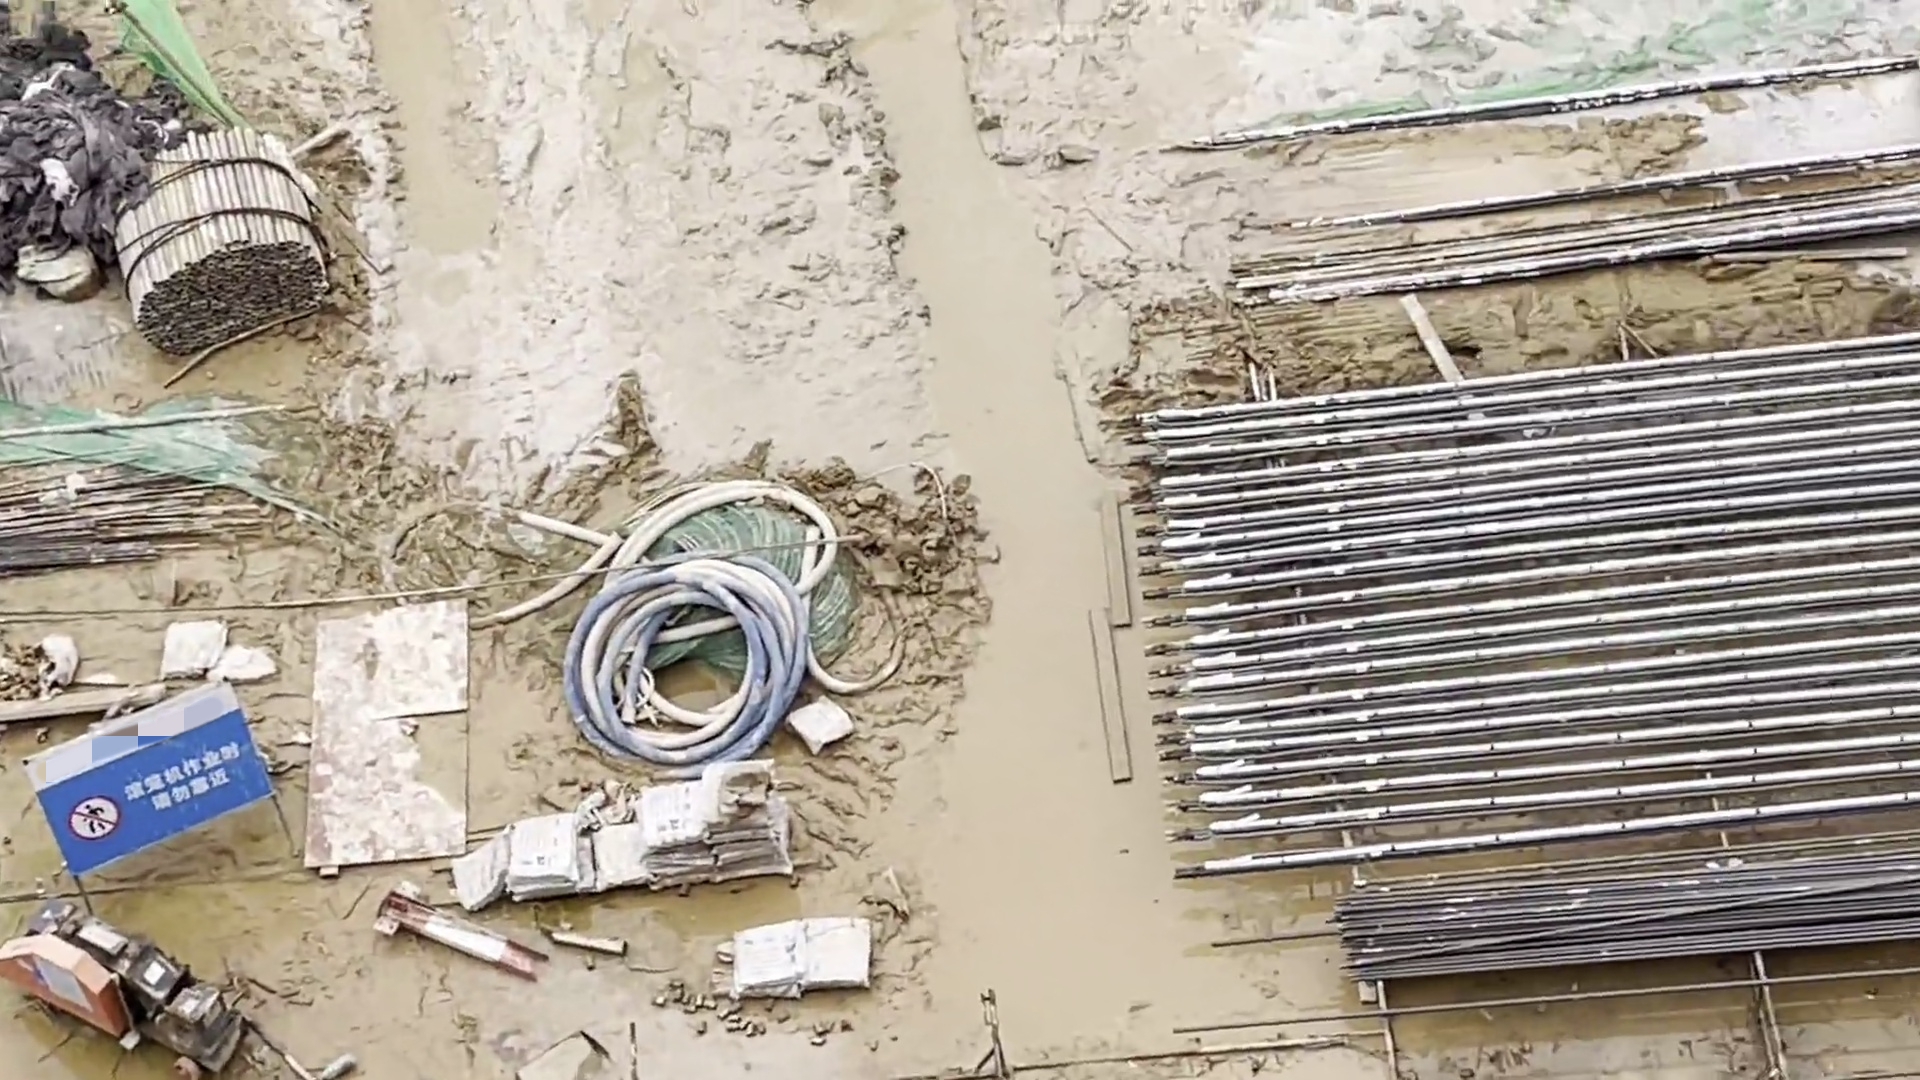rebar: (1342, 864, 1920, 1007)
slogan: (44, 687, 266, 862)
